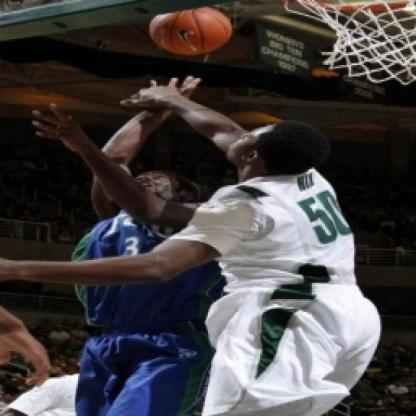basketball: (140, 3, 244, 58)
